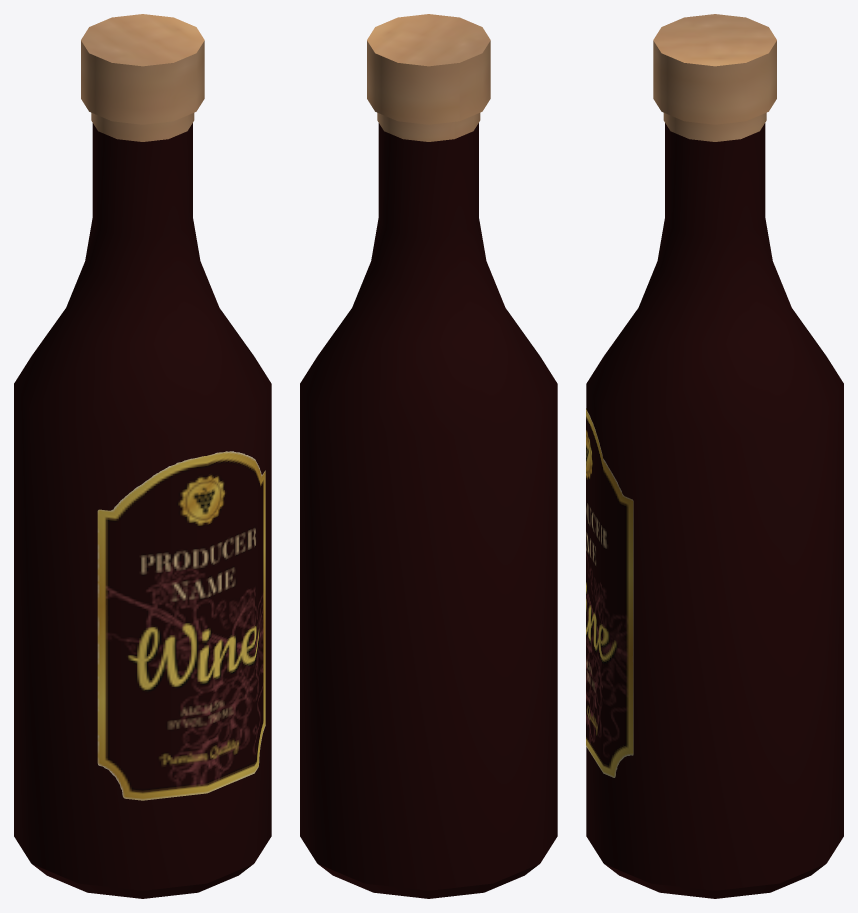
Rendered from drink-bottle-03.fbx.
3 views of the same model, side by side, from view 1: azimuth 30°, elevation 25°; view 2: azimuth 150°, elevation 25°; view 3: azimuth 270°, elevation 25° (orthographic).
Parts seen in each view (by area): view 1: Cylinder.047; view 2: Cylinder.047; view 3: Cylinder.047.
Boxes of the visible parts, x1,y1,x2,y2 form: Cylinder.047: (14,14,271,898); Cylinder.047: (300,14,557,898); Cylinder.047: (586,14,843,898).
Size of the model in its own units: 0.0945 by 0.3288 by 0.0946.
